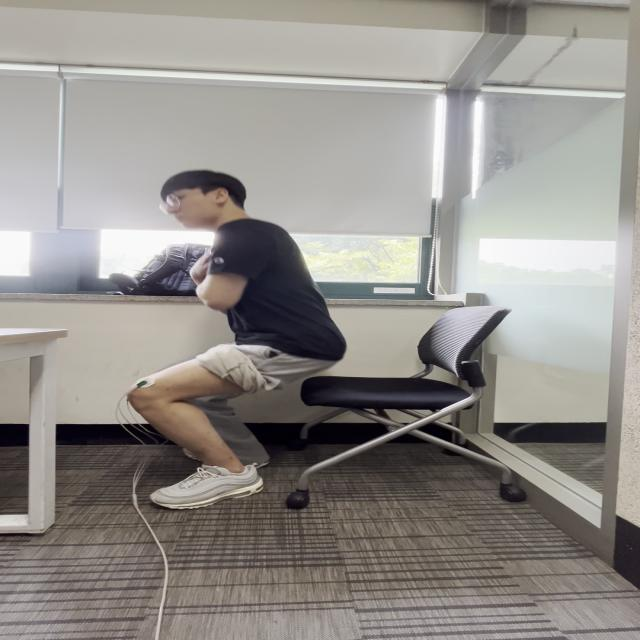stand: (134, 370, 335, 511), (200, 231, 352, 405), (102, 334, 360, 421)
